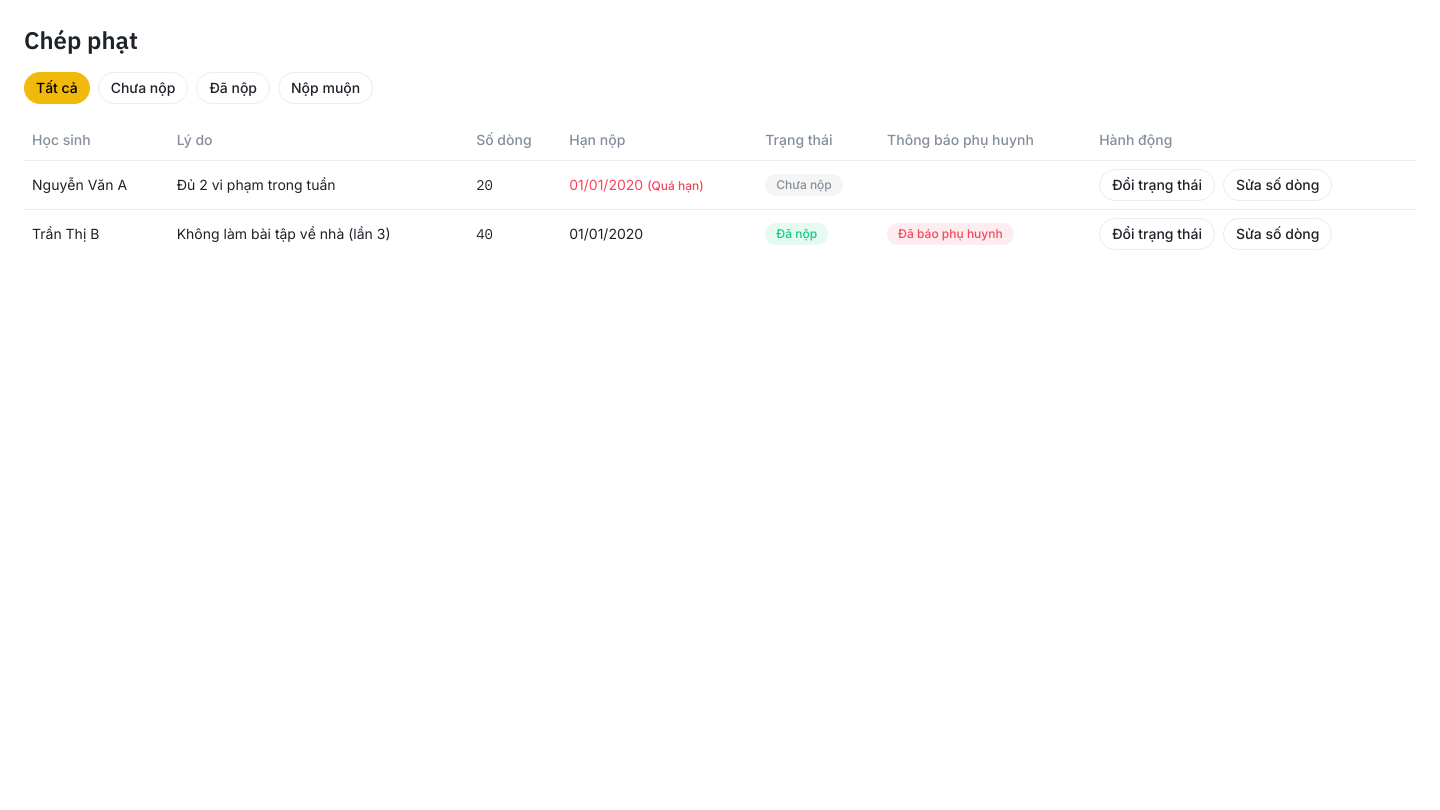
Test: dùng Table shadcn cho bảng chép phạt và Alert shadcn cho lỗi trong hộp thoại
Click the button "Đổi trạng thái" in the row of "Nguyễn Văn A". click: (1157, 184)
box: [1099,168,1215,200]
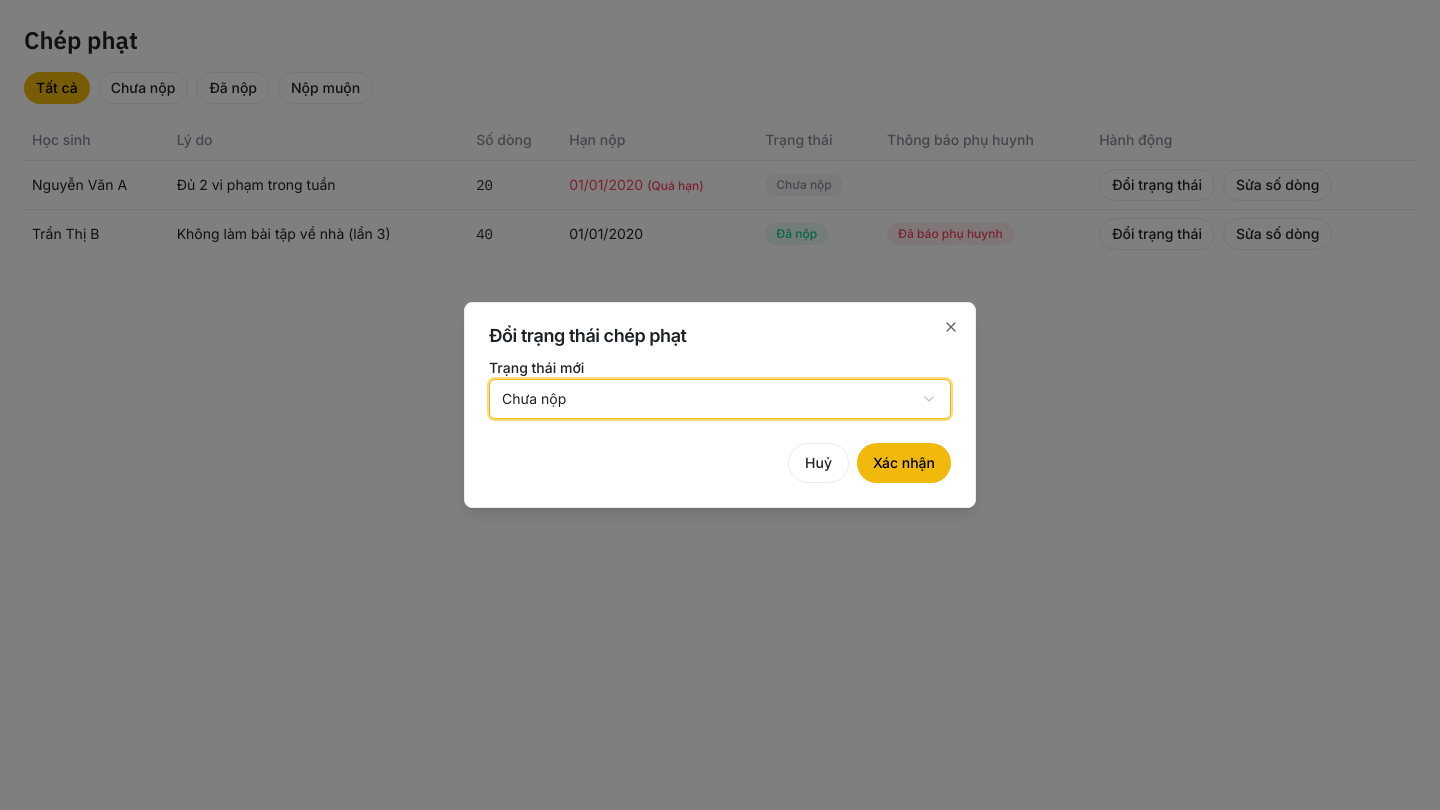
Click the button "Xác nhận". click: (904, 463)
box: [857,443,951,483]
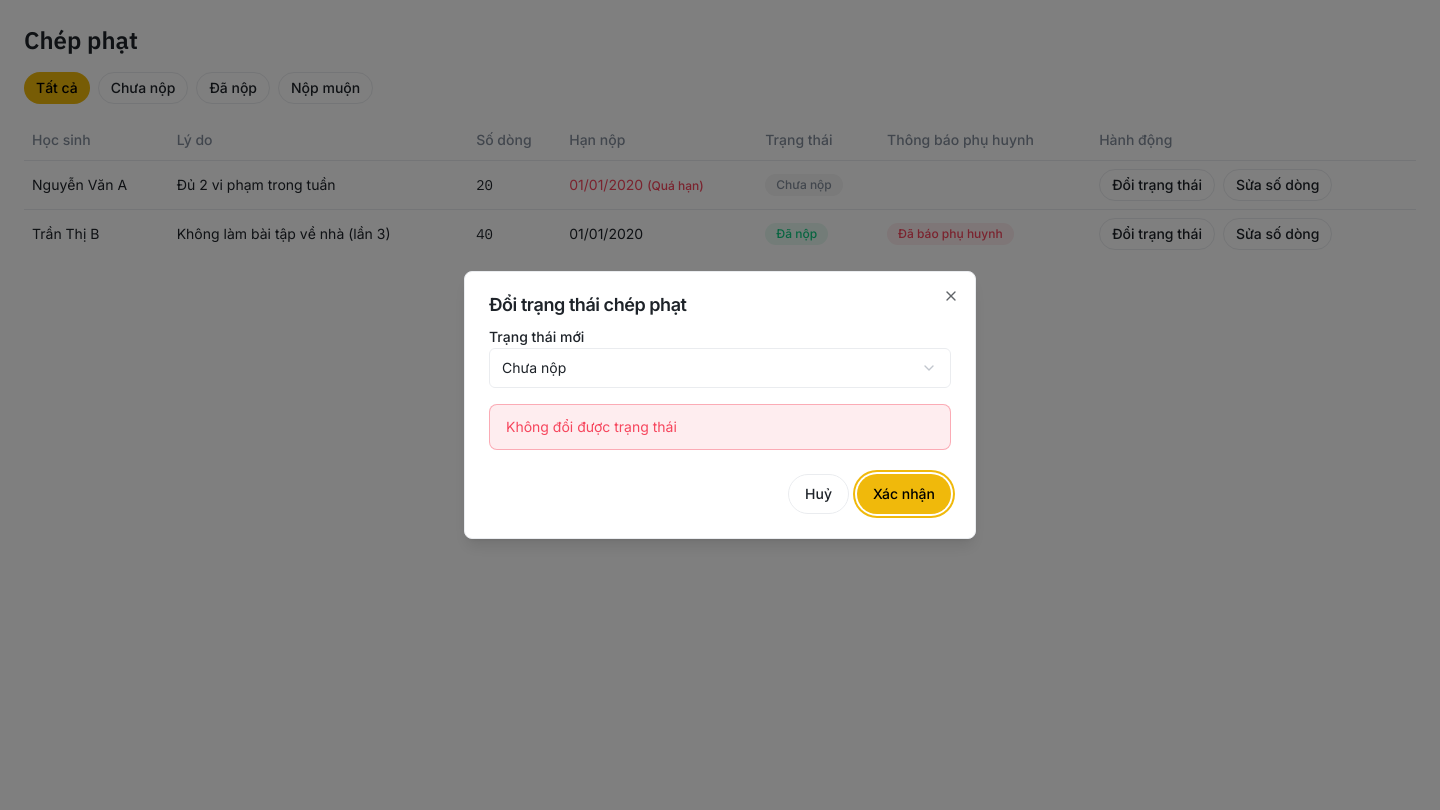
Now the message reads "Không đổi được trạng thái", box [506,418,677,435]
